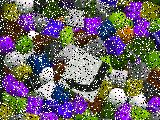Right: (59, 46, 111, 102)
